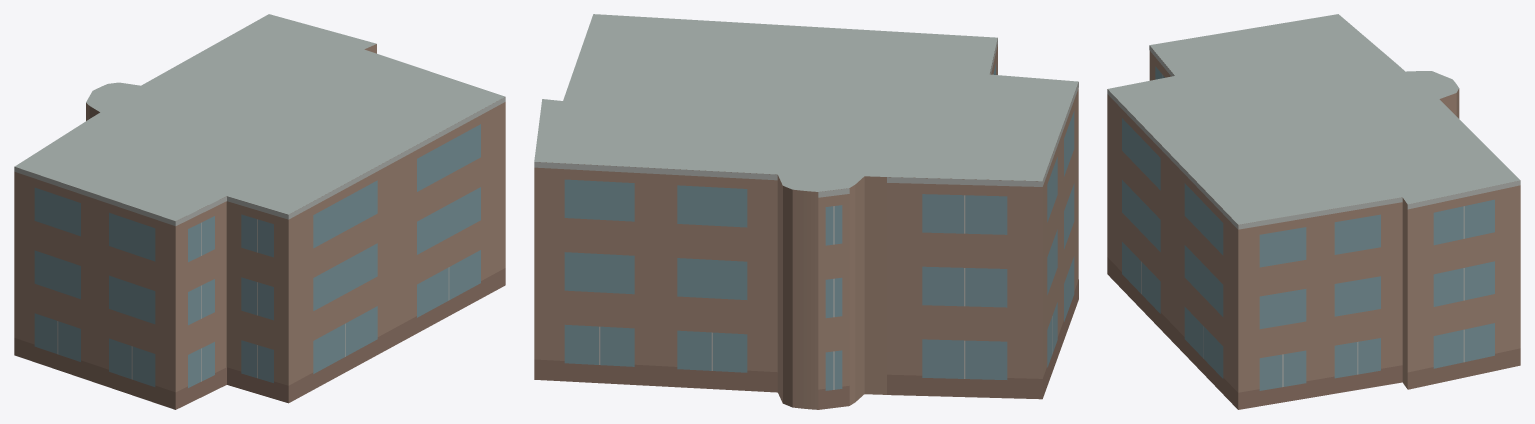
File: survey-upis-32588941.glb
3 renders of one model, left to right at view 1: azimuth 30°, elevation 25°; view 2: azimuth 150°, elevation 25°; view 3: azimuth 270°, elevation 25°, orthographic. The views are drawn at different scales.
Visible parts, largest first — view 1: survey-upis-32588941.tmp; view 2: survey-upis-32588941.tmp; view 3: survey-upis-32588941.tmp.
Boxes of the visible parts, <box> form: survey-upis-32588941.tmp: <box>14,14,505,409</box>; survey-upis-32588941.tmp: <box>534,14,1078,409</box>; survey-upis-32588941.tmp: <box>1107,14,1520,409</box>.
Bounding box in the file's own units: 22.34 × 9.15 × 18.52.
